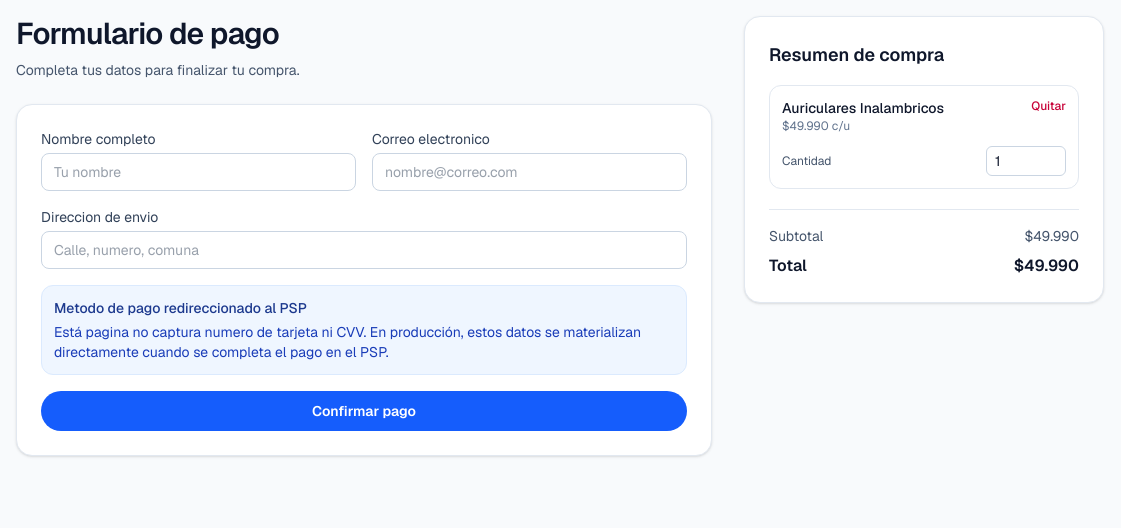
Checkout quantity input behavior › muestra mensaje de error cuando API responde 400 por cantidad invalida
Type "Grace Hopper" into the field labelled "Nombre completo" at {"x": 198, "y": 172}, box [41, 153, 356, 191]
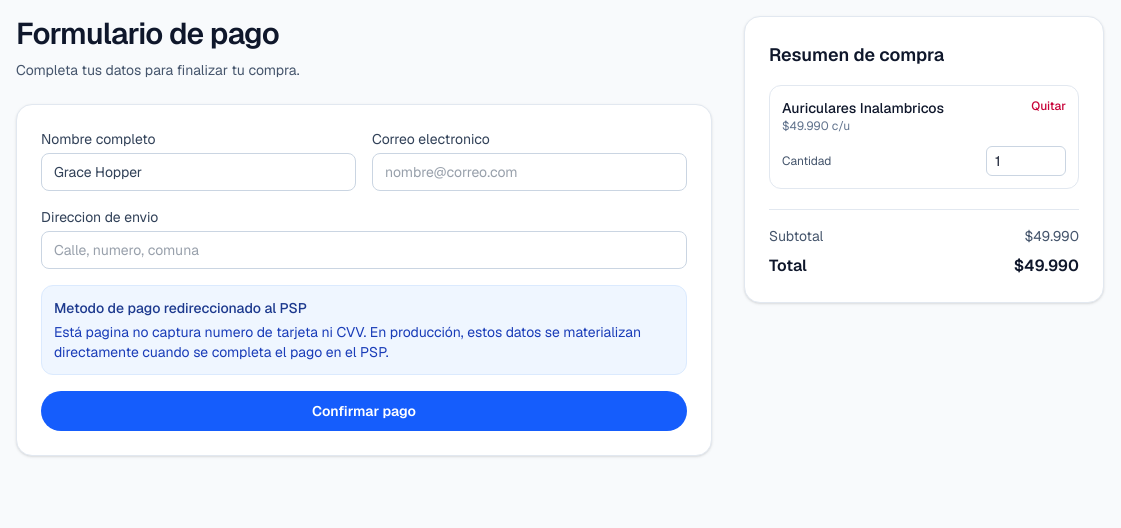
Type "grace@example.com" into the field labelled "Correo electronico" at {"x": 530, "y": 172}, box [372, 153, 687, 191]
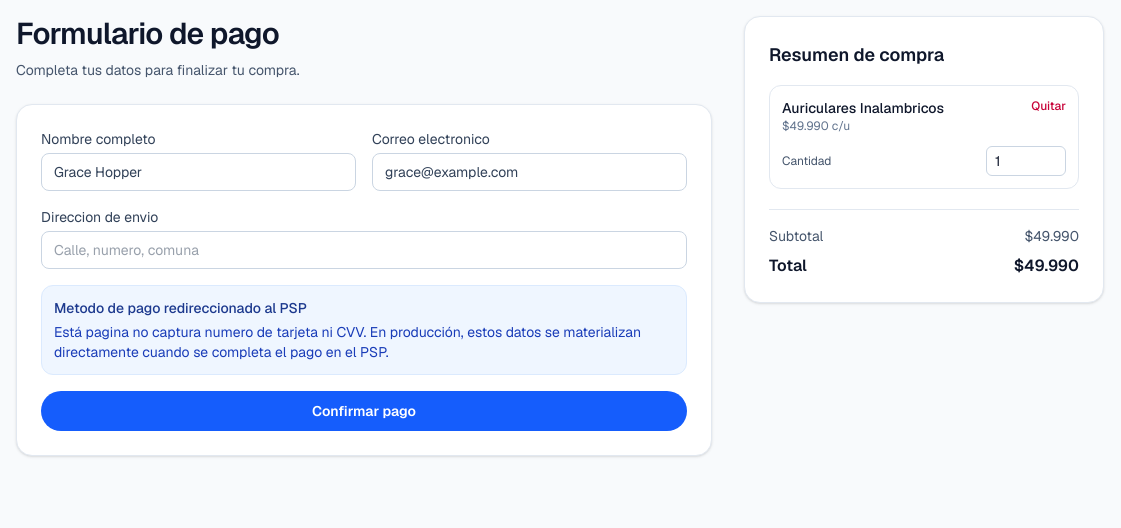
Type "Calle Falsa 123" into the field labelled "Direccion de envio" at {"x": 364, "y": 250}, box [41, 231, 687, 269]
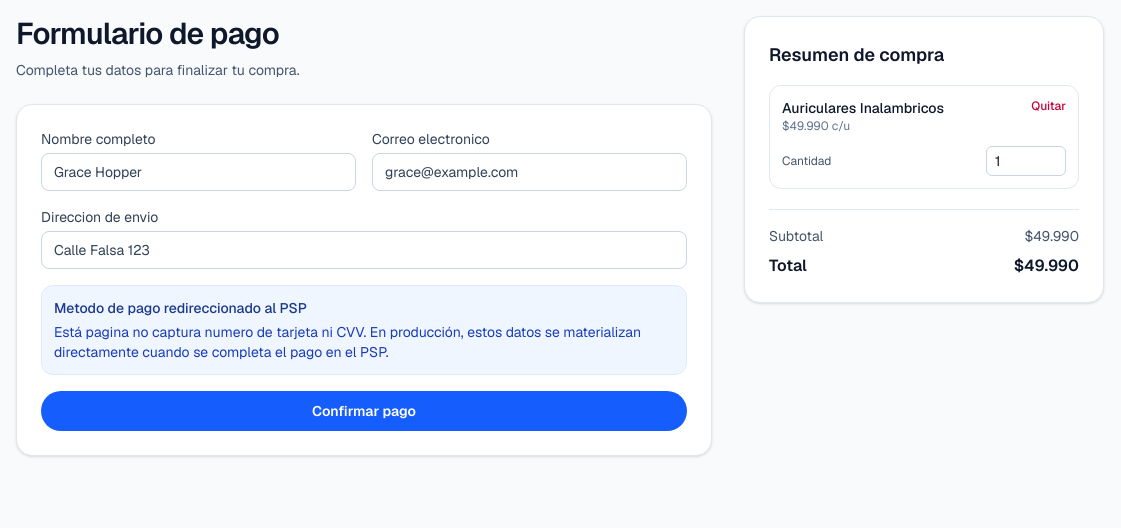
Click the button "Confirmar pago" at {"x": 364, "y": 411}, box [41, 391, 687, 431]
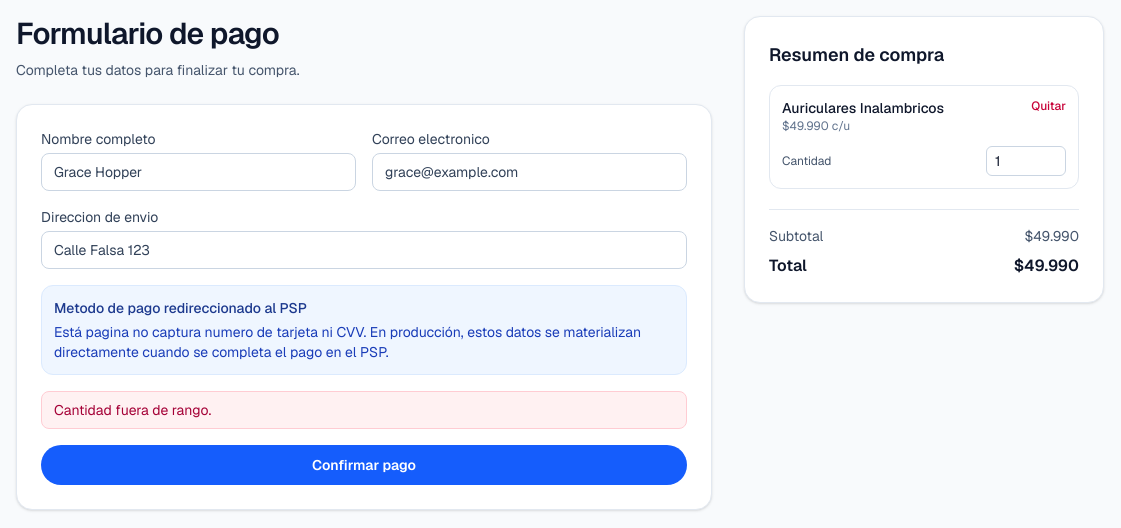
Expected: the text "Cantidad fuera de rango." is shown, [41, 391, 687, 429]
